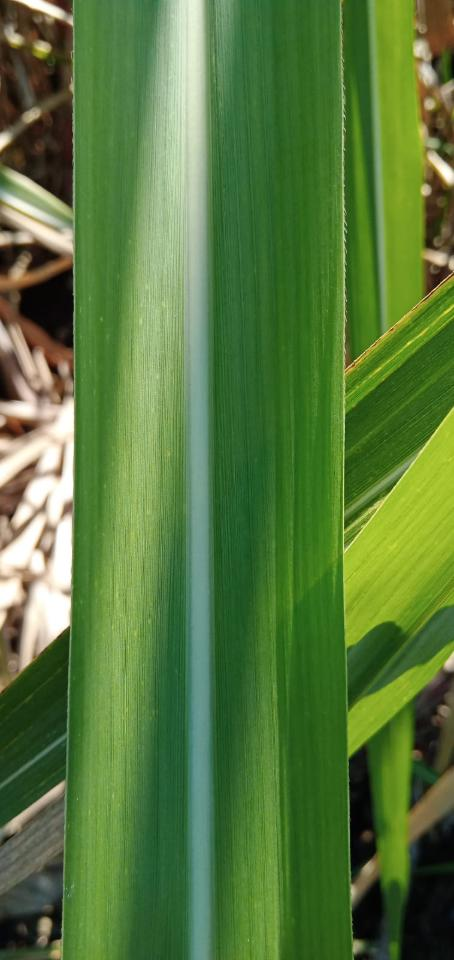Healthy: (63, 0, 359, 959)
